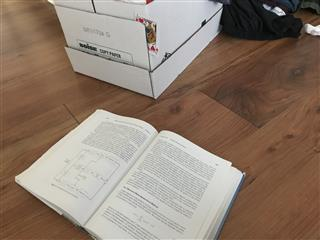JackOfHearts: (135, 11, 159, 56)
